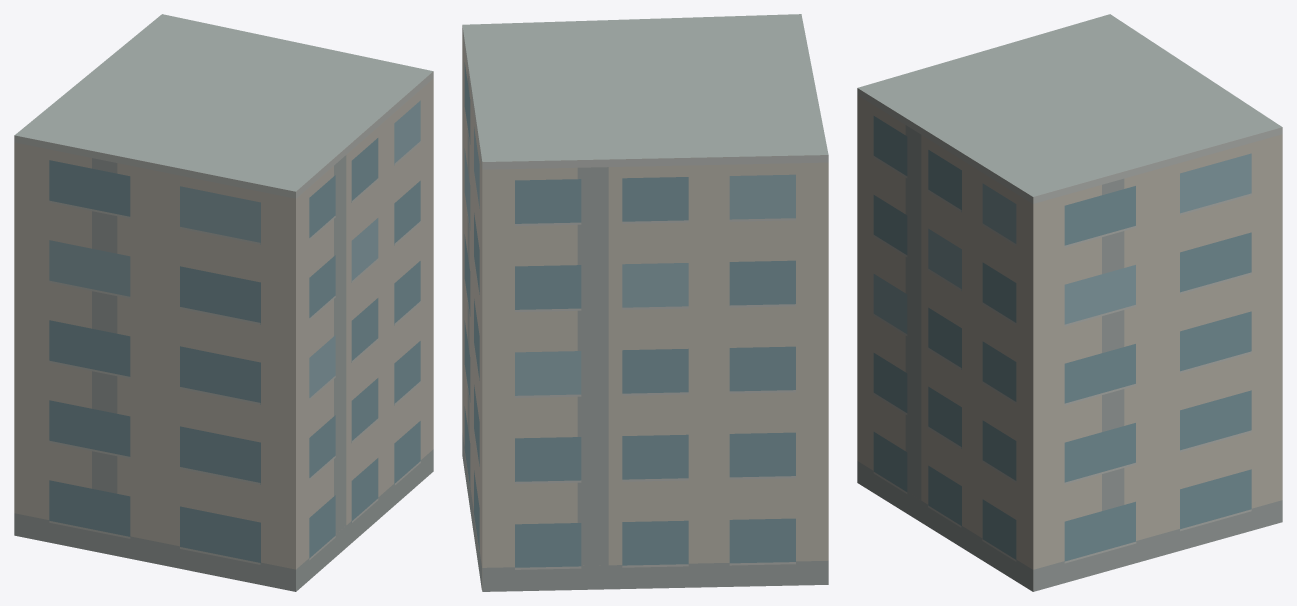
The model's file is survey-upis-32998166.glb.
3 views of the same model, side by side, from view 1: azimuth 30°, elevation 25°; view 2: azimuth 150°, elevation 25°; view 3: azimuth 270°, elevation 25° (orthographic). The views are drawn at different scales.
Parts seen in each view (by area): view 1: survey-upis-32998166.tmp; view 2: survey-upis-32998166.tmp; view 3: survey-upis-32998166.tmp.
Boxes of the visible parts, x1,y1,x2,y2 form: survey-upis-32998166.tmp: [14, 14, 433, 591]; survey-upis-32998166.tmp: [462, 14, 828, 591]; survey-upis-32998166.tmp: [857, 14, 1282, 591].
Bounding box in the file's own units: 13.62 × 13.7 × 13.38.
